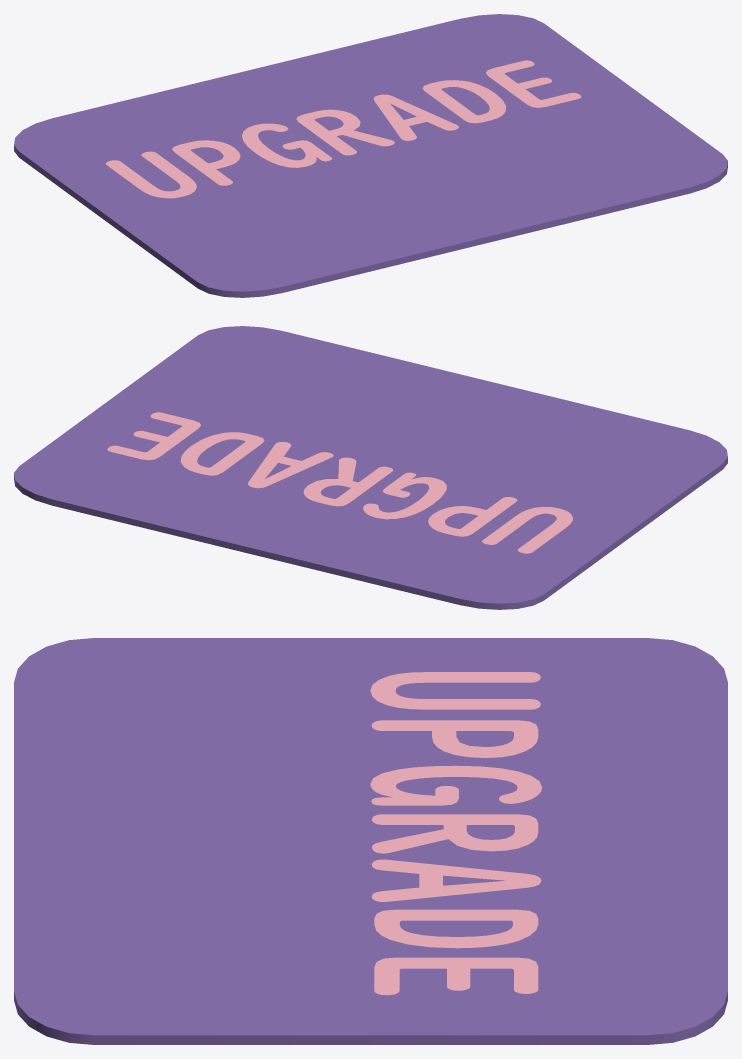
Rendered from Nail Table Upgrade Ui.fbx.
The picture shows the model from 3 angles, top to bottom: view 1: azimuth 30°, elevation 25°; view 2: azimuth 150°, elevation 25°; view 3: azimuth 270°, elevation 25°; orthographic projection. The views are drawn at different scales.
Parts seen in each view (by area): view 1: Nail table Ui Place holder.002; view 2: Nail table Ui Place holder.002; view 3: Nail table Ui Place holder.002.
Part boxes in pixels (x1,y1,x2,y2): Nail table Ui Place holder.002: [14, 14, 727, 297]; Nail table Ui Place holder.002: [14, 326, 727, 609]; Nail table Ui Place holder.002: [14, 638, 727, 1044].
Bounding box in the file's own units: 2.63 × 0.0405 × 2.
